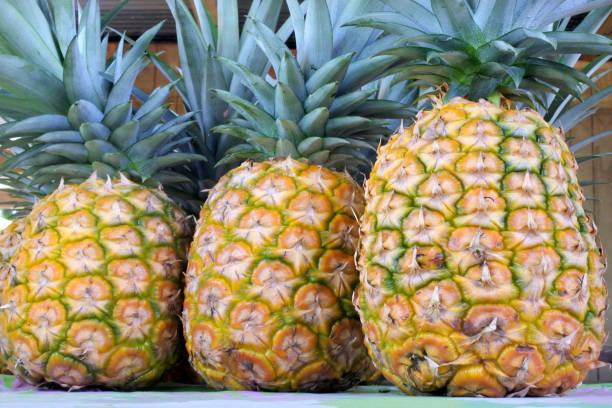pineapple: (360, 0, 611, 408), (0, 0, 186, 408), (186, 1, 358, 408)
